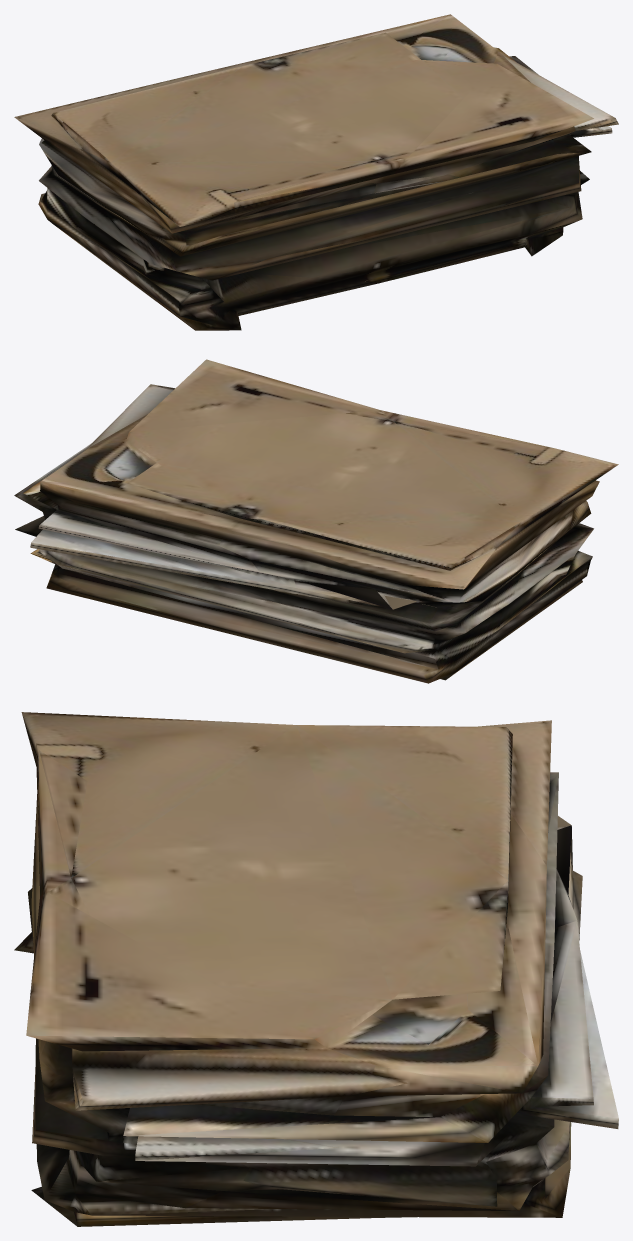
File: tripo_convert_68776deb-da26-4879-8ab6-b669c739f53c.fbx
3 renders of one model, top to bottom at view 1: azimuth 30°, elevation 25°; view 2: azimuth 150°, elevation 25°; view 3: azimuth 270°, elevation 25°, orthographic. The views are drawn at different scales.
Parts seen in each view (by area): view 1: tripo_node_68776deb; view 2: tripo_node_68776deb; view 3: tripo_node_68776deb.
Boxes of the visible parts, left/top/right/bottom form: tripo_node_68776deb: left=14, top=14, right=618, bottom=330; tripo_node_68776deb: left=14, top=359, right=618, bottom=683; tripo_node_68776deb: left=14, top=712, right=618, bottom=1226.
Size of the model in its own units: 0.9814 by 0.2438 by 0.6552.
1 material, 1 textured.
